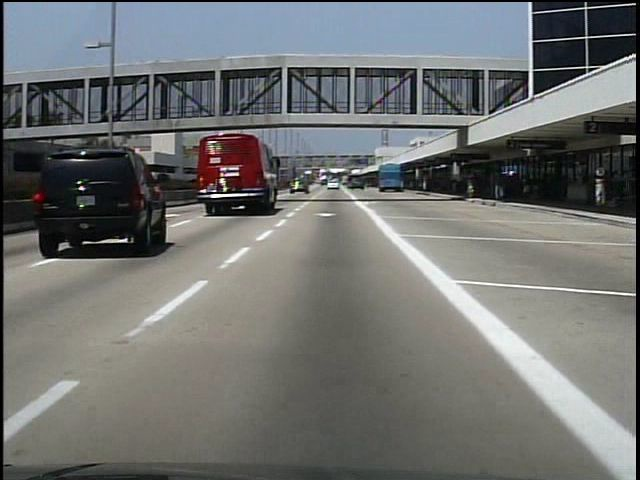person: (518, 168, 536, 203)
